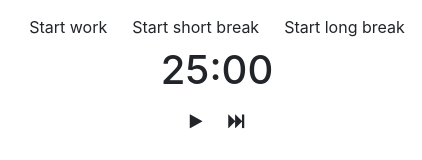
Pauses the timer after clicking Play/Pause when timer is running
Click the button with id "startWork" at (68, 27), box [16,8,120,46]
Wait 683000 ms
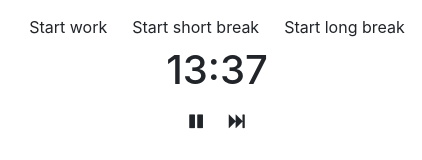
Expected: the heading with id "timer" reads "13:37", [166,45,268,94]
Click the 4th button at (196, 121), box [176,102,216,140]
Wait 2000 ms
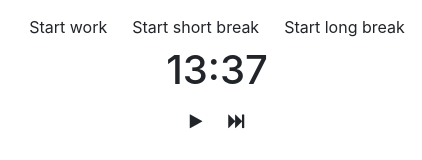
Expected: the heading with id "timer" reads "13:37", [166,45,268,94]
Click the 4th button at (196, 121), box [177,102,215,140]
Wait 1000 ms
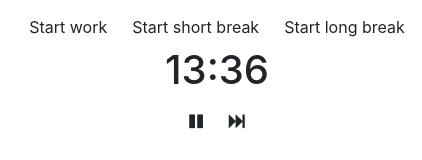
Expected: the heading with id "timer" reads "13:36", [165,45,269,94]
